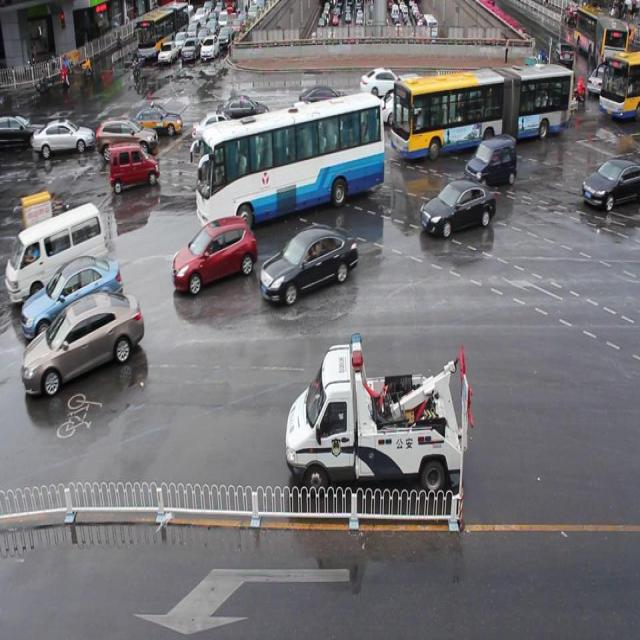bus: (286, 333, 474, 494)
car: (22, 292, 143, 397), (23, 257, 122, 339), (261, 226, 357, 304), (173, 217, 256, 293), (420, 179, 495, 237), (581, 158, 640, 213), (203, 120, 263, 164), (97, 116, 158, 158), (108, 139, 159, 189), (465, 138, 515, 188), (34, 120, 96, 155), (278, 101, 328, 143), (378, 88, 427, 130), (392, 72, 437, 113), (297, 101, 344, 137), (132, 105, 183, 138), (192, 110, 240, 144), (220, 96, 269, 129), (492, 65, 533, 104), (360, 67, 404, 100), (466, 74, 501, 114), (298, 85, 345, 113), (495, 69, 532, 104), (537, 63, 568, 91)
truck: (0, 206, 109, 304)
van: (195, 102, 384, 224), (389, 64, 570, 148)
